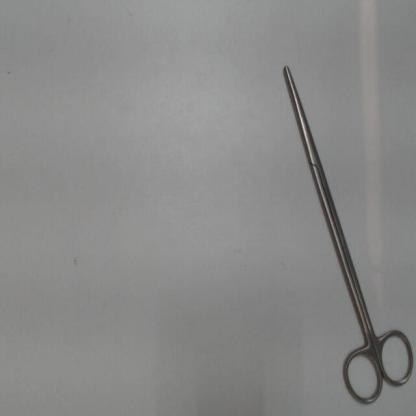9 Metzenbaum Scissors: (279, 56, 415, 409)
